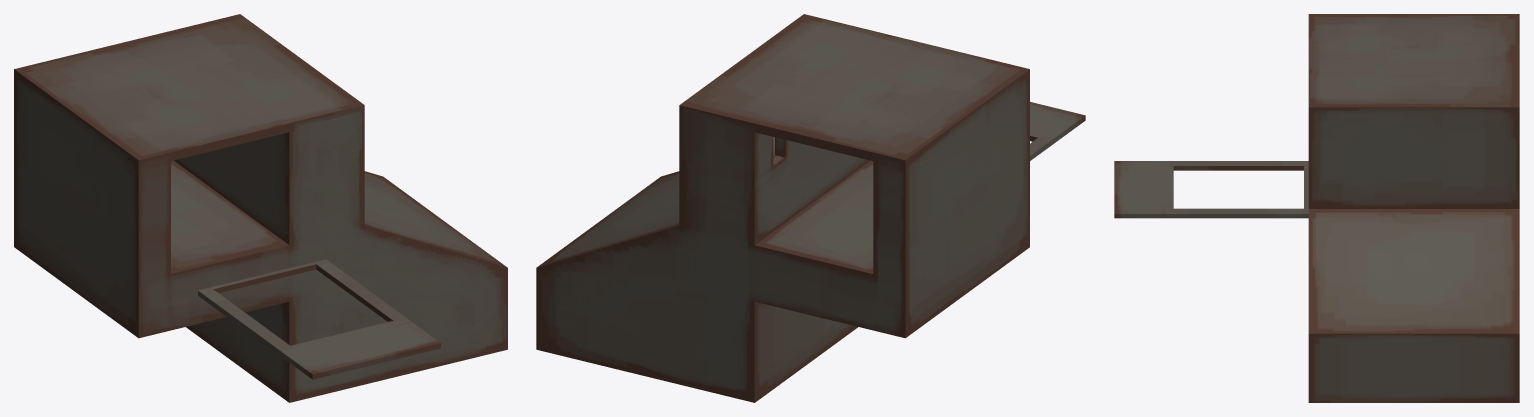
Rendered from furnaceTop 1.fbx.
3 renders of one model, left to right at view 1: azimuth 30°, elevation 25°; view 2: azimuth 150°, elevation 25°; view 3: azimuth 270°, elevation 25°, orthographic. The views are drawn at different scales.
Parts seen in each view (by area): view 1: furnaceTop, platform; view 2: furnaceTop, platform; view 3: furnaceTop, platform.
Part boxes in pixels (box(x1,y1,x2,y2)): furnaceTop: box(14, 14, 507, 402); platform: box(198, 259, 440, 379); furnaceTop: box(536, 14, 1029, 402); platform: box(1030, 102, 1085, 160); furnaceTop: box(1308, 14, 1519, 402); platform: box(1114, 161, 1308, 218).
Bounding box in the file's own units: 3.43 × 2.48 × 3.85.
